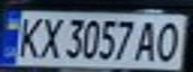0: (81, 16, 103, 61)
3: (63, 16, 84, 60)
5: (100, 17, 118, 61)
7: (112, 17, 139, 62)
A: (133, 18, 163, 63)
K: (12, 13, 45, 60)
O: (151, 18, 184, 63)
X: (36, 13, 63, 60)
